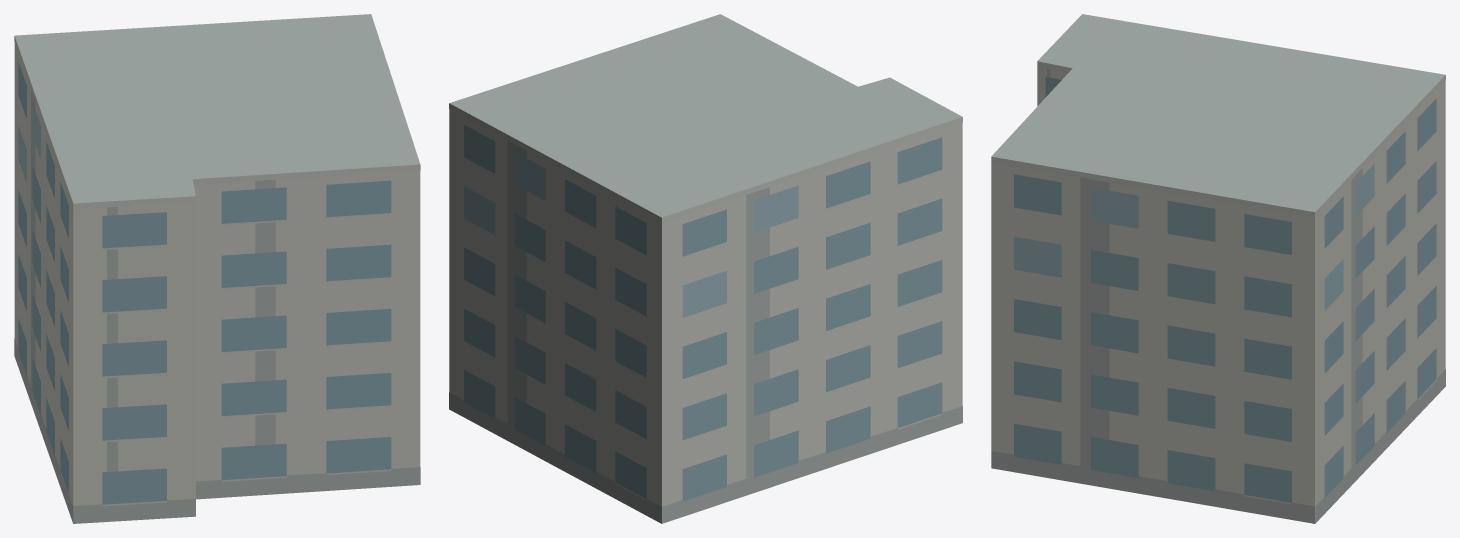
File: survey-upis-32821636.glb
The picture shows the model from 3 angles, left to right: view 1: azimuth 30°, elevation 25°; view 2: azimuth 150°, elevation 25°; view 3: azimuth 270°, elevation 25°; orthographic projection. The views are drawn at different scales.
Visible parts, largest first — view 1: survey-upis-32821636.tmp; view 2: survey-upis-32821636.tmp; view 3: survey-upis-32821636.tmp.
Part boxes in pixels (<box>): survey-upis-32821636.tmp: <box>14,14,420,523</box>; survey-upis-32821636.tmp: <box>449,14,962,523</box>; survey-upis-32821636.tmp: <box>991,14,1445,523</box>.
Size of the model in its own units: 18.15 by 13.3 by 17.59.
